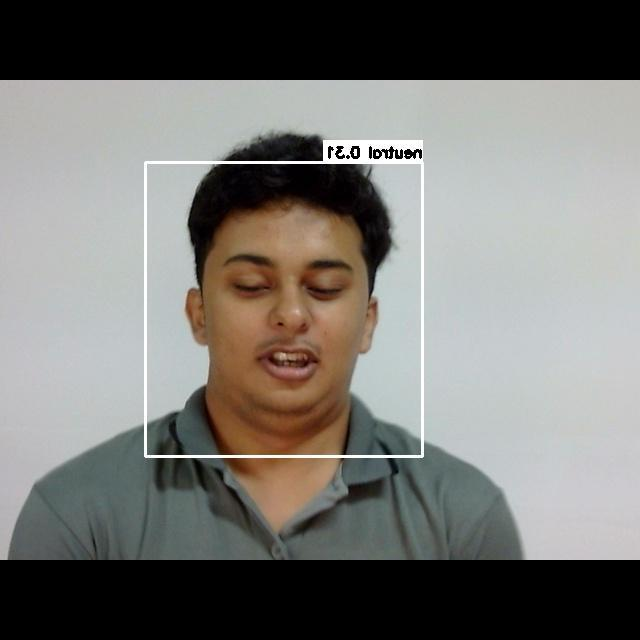Fear: (205, 218, 366, 402)
